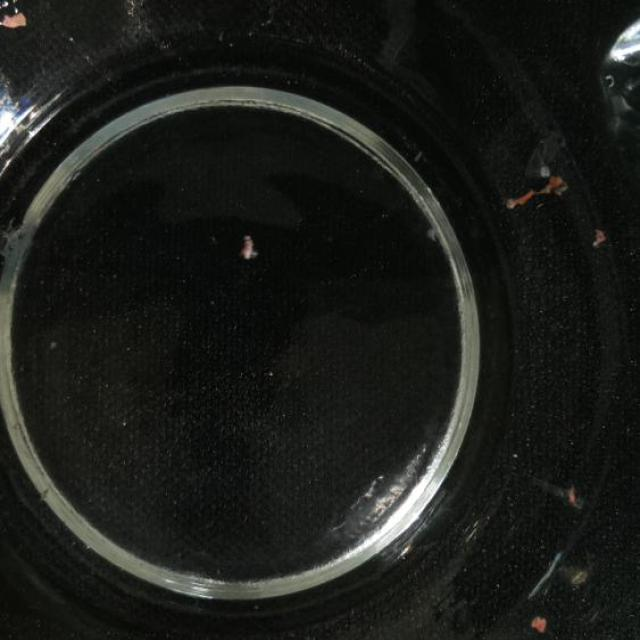fiber: (500, 164, 573, 208), (0, 7, 31, 29), (239, 234, 261, 264), (565, 482, 584, 510), (529, 611, 550, 635), (592, 226, 606, 248)
